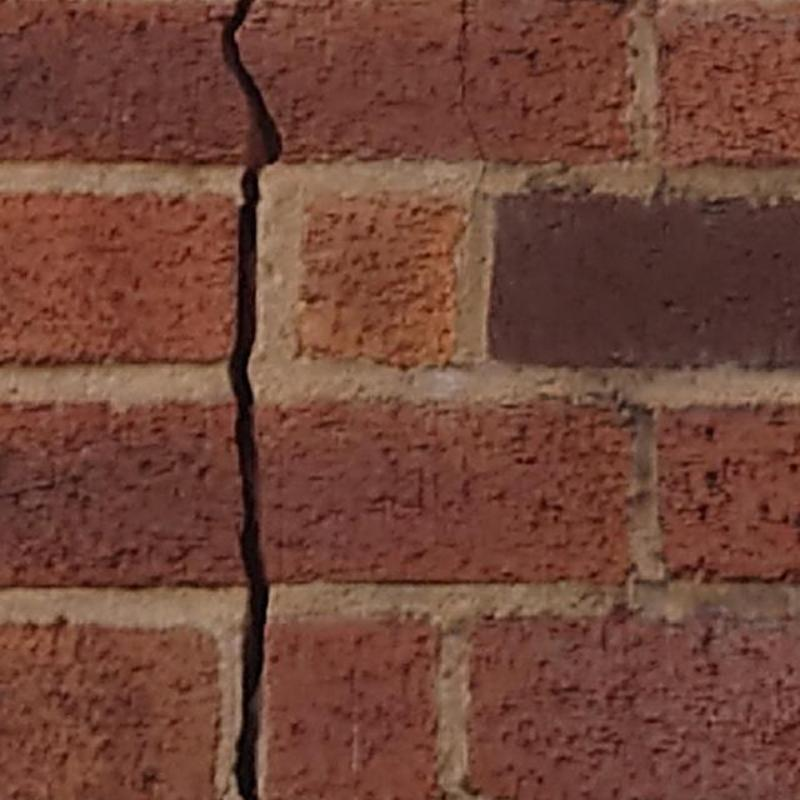crack: (222, 0, 281, 799), (456, 0, 488, 196)
